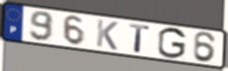6: (62, 14, 87, 47), (193, 31, 217, 64)
9: (28, 10, 55, 42)
G: (157, 26, 188, 60)
K: (95, 18, 120, 52)
T: (128, 23, 152, 55)
